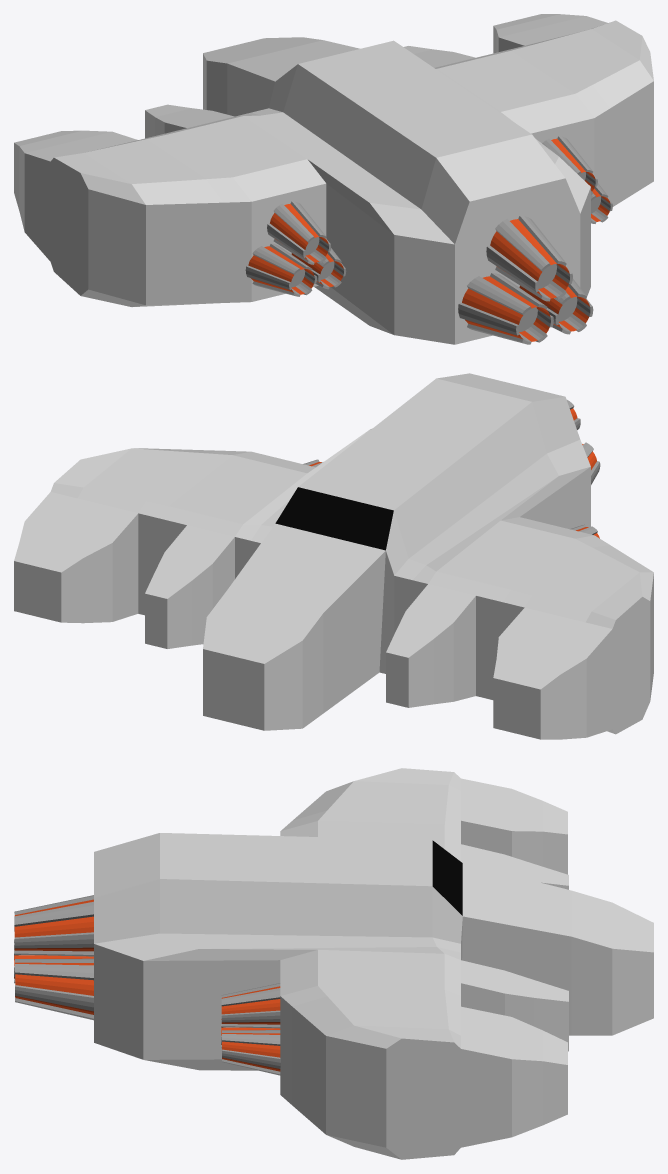
File: ShipL5.fbx
The picture shows the model from 3 angles, top to bottom: view 1: azimuth 30°, elevation 25°; view 2: azimuth 150°, elevation 25°; view 3: azimuth 270°, elevation 25°; orthographic projection.
Parts seen in each view (by area): view 1: Cube, Engine 2.001, Engine 2.002, Engine 2.004, Engine 2.003, Engine 2, Engine 2.008, Engine 2.005, Engine 2.006; view 2: Cube; view 3: Cube, Engine 2.002, Engine 2, Engine 2.008, Engine 2.006.
Part boxes in pixels (left/top/right/bottom): Cube: left=14, top=14, right=653, bottom=344; Engine 2.001: left=458, top=273, right=553, bottom=344; Engine 2.002: left=486, top=215, right=572, bottom=301; Engine 2.004: left=245, top=243, right=316, bottom=296; Engine 2.003: left=267, top=201, right=330, bottom=264; Engine 2: left=519, top=279, right=593, bottom=334; Engine 2.008: left=542, top=136, right=597, bottom=195; Engine 2.005: left=291, top=248, right=346, bottom=289; Engine 2.006: left=591, top=183, right=612, bottom=223; Cube: left=14, top=373, right=653, bottom=739; Cube: left=94, top=768, right=653, bottom=1159; Engine 2.002: left=14, top=895, right=93, bottom=956; Engine 2: left=15, top=958, right=93, bottom=1020; Engine 2.008: left=221, top=983, right=280, bottom=1028; Engine 2.006: left=222, top=1030, right=280, bottom=1075.
Size of the model in its own units: 1172 by 341 by 1172.
